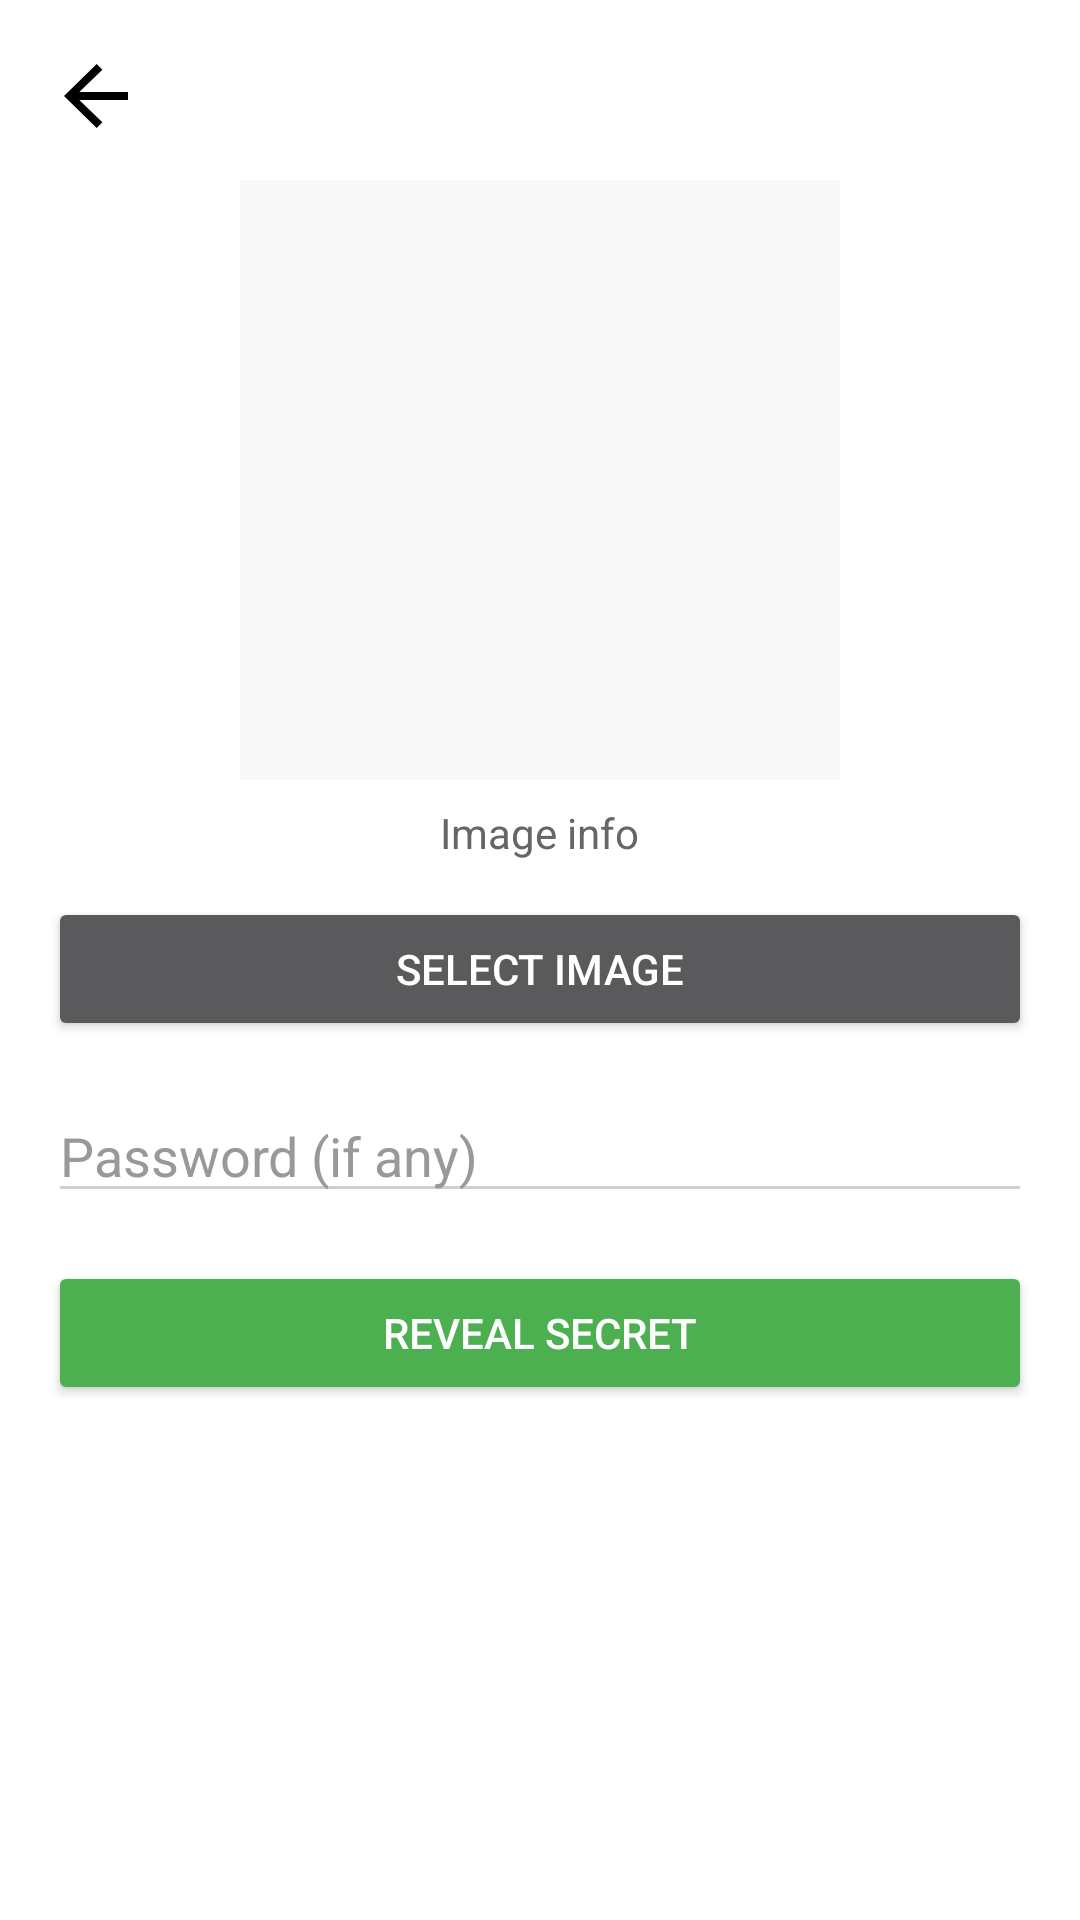

Named icons in this screenshot (1080x1920) and their bounding boxes, {"x1": x1, "y1": y1, "x2": x2, "y2": y2}:
back: {"x1": 64, "y1": 64, "x2": 128, "y2": 128}
